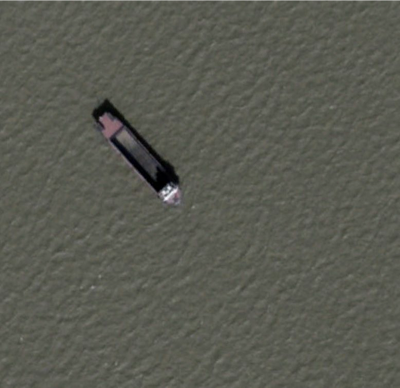boat: (92, 101, 185, 207)
